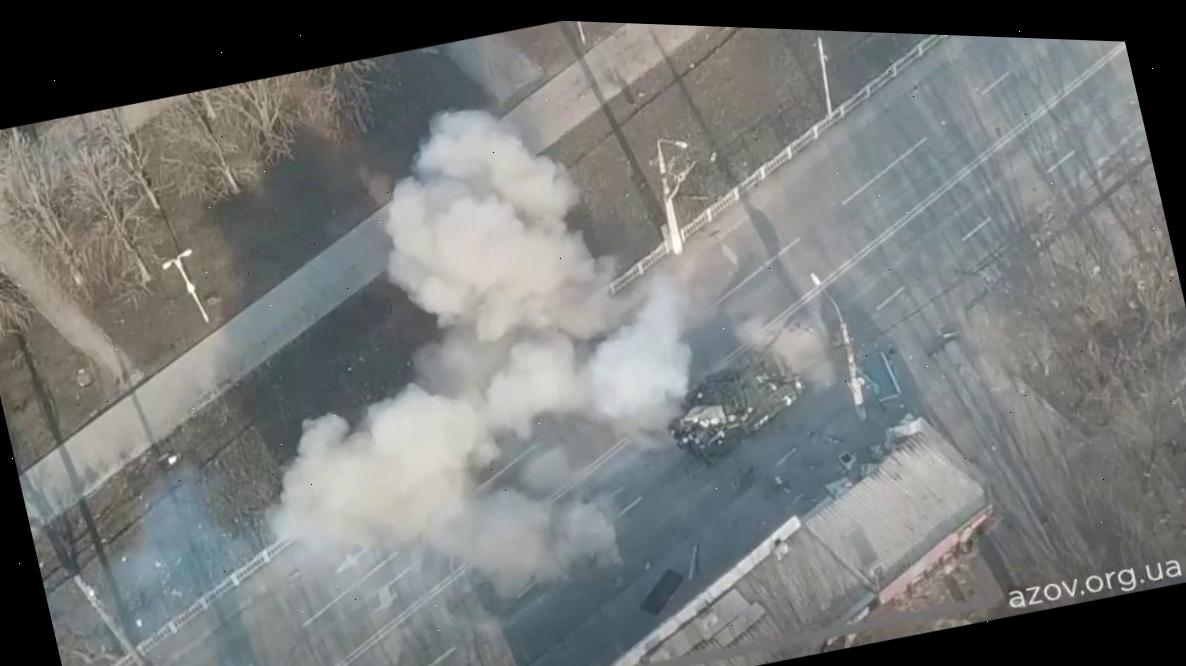tank: (644, 304, 826, 475)
